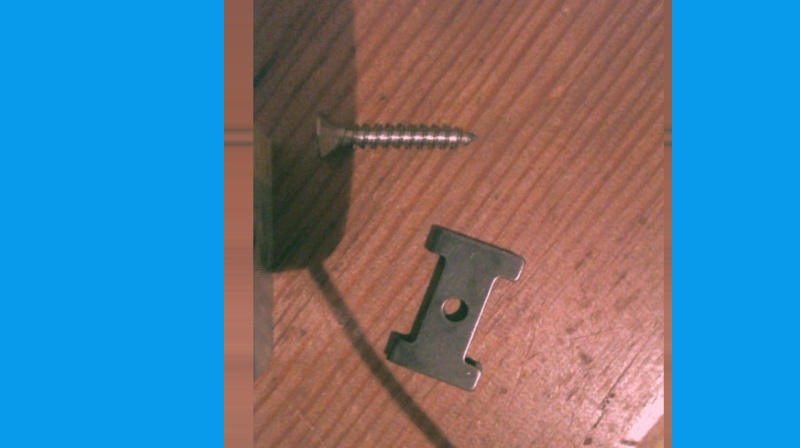O002: (382, 222, 528, 394)
S001: (309, 106, 478, 158)
